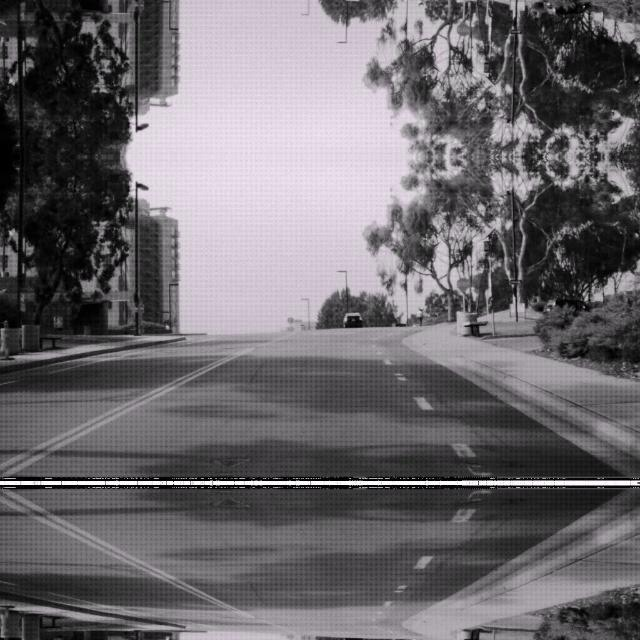stop: (457, 276, 471, 290), (457, 22, 471, 36)
